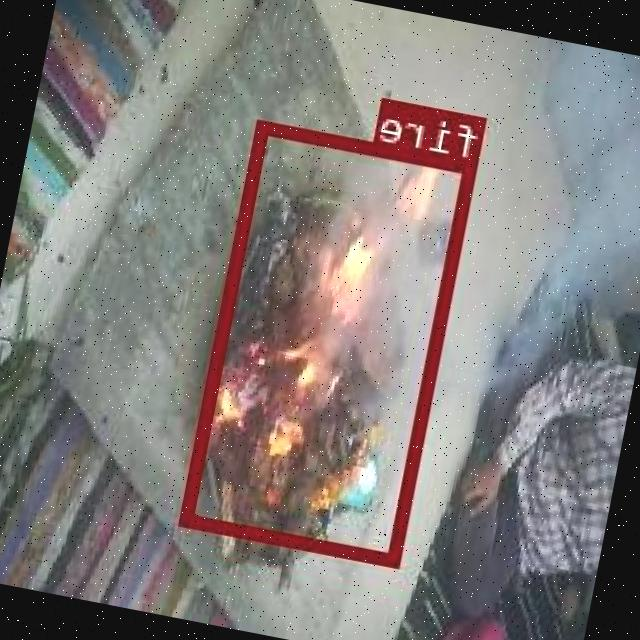fire: (182, 120, 480, 566)
